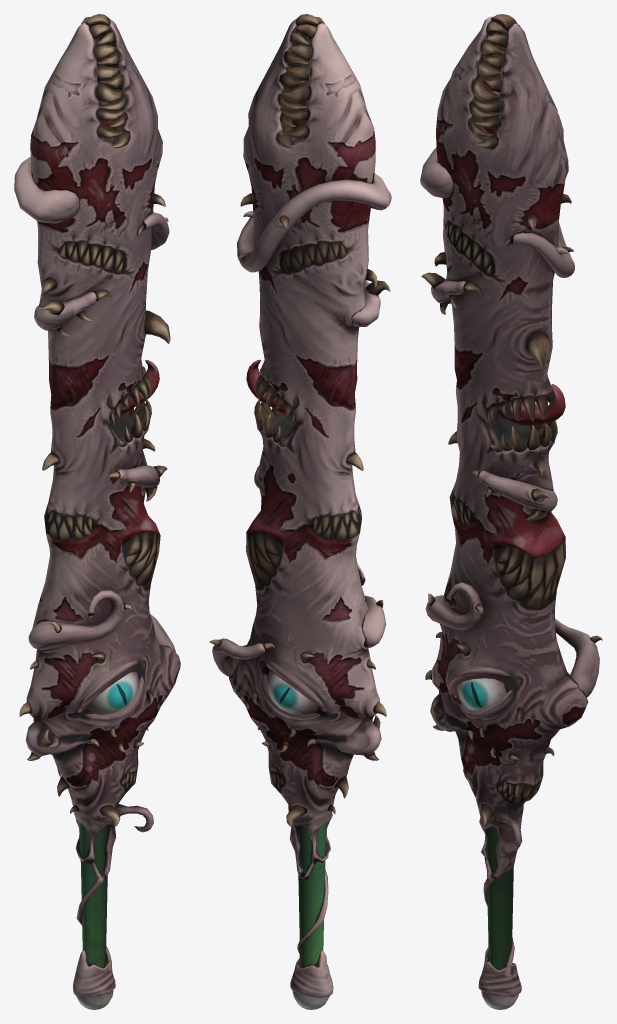
Rendered from sm_sword_94.gltf.
3 renders of one model, left to right at view 1: azimuth 30°, elevation 25°; view 2: azimuth 150°, elevation 25°; view 3: azimuth 330°, elevation 25°, orthographic.
Parts seen in each view (by area): view 1: sm_sword_94; view 2: sm_sword_94; view 3: sm_sword_94.
Part boxes in pixels (bbox=[...]): sm_sword_94: bbox=[14, 14, 180, 1009]; sm_sword_94: bbox=[209, 14, 391, 1009]; sm_sword_94: bbox=[420, 14, 602, 1009].
Size of the model in its own units: 0.256 by 1.5 by 0.1749.
Materials: 1 (1 with a texture image).
